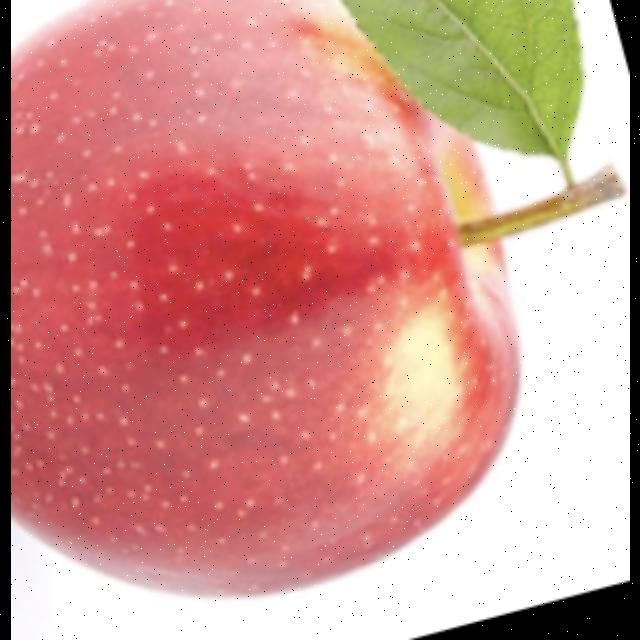Apel Segar: (11, 0, 529, 596)
